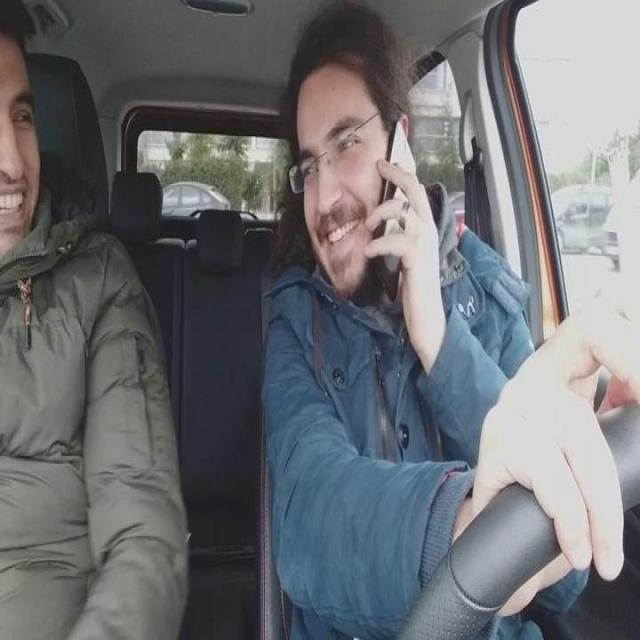phone: (375, 120, 419, 292)
